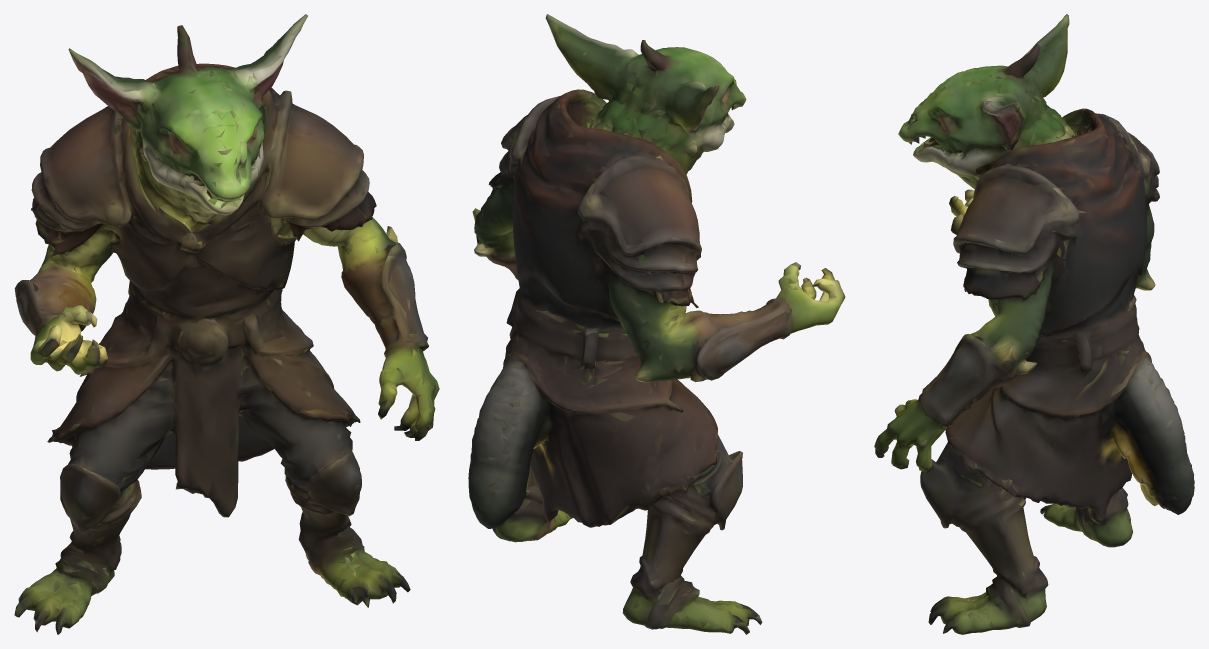
File: Pib_final.glb
3 views of the same model, side by side, from view 1: azimuth 30°, elevation 25°; view 2: azimuth 150°, elevation 25°; view 3: azimuth 270°, elevation 25° (orthographic). The views are drawn at different scales.
Parts seen in each view (by area): view 1: Mesh1.0; view 2: Mesh1.0; view 3: Mesh1.0.
Boxes of the visible parts, bbox=[...] form: Mesh1.0: bbox=[14, 14, 439, 634]; Mesh1.0: bbox=[468, 14, 845, 634]; Mesh1.0: bbox=[874, 14, 1194, 634].
Bounding box in the file's own units: 0.7399 × 1.1 × 0.6117.
1 material, 1 textured.
